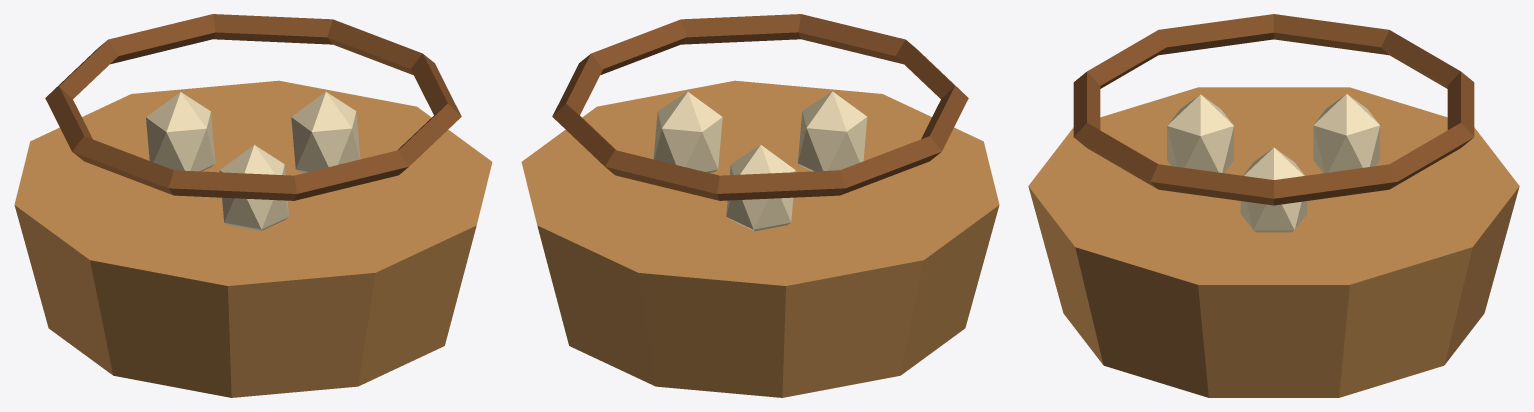
File: egg_basket.glb
The picture shows the model from 3 angles, left to right: view 1: azimuth 30°, elevation 25°; view 2: azimuth 150°, elevation 25°; view 3: azimuth 270°, elevation 25°; orthographic projection.
Visible parts, largest first — view 1: egg_basket; view 2: egg_basket; view 3: egg_basket.
Part boxes in pixels (left/top/right/bottom): egg_basket: left=14, top=14, right=492, bottom=397; egg_basket: left=521, top=14, right=999, bottom=397; egg_basket: left=1028, top=14, right=1519, bottom=397.
Bounding box in the file's own units: 0.6657 × 0.34 × 0.7.
